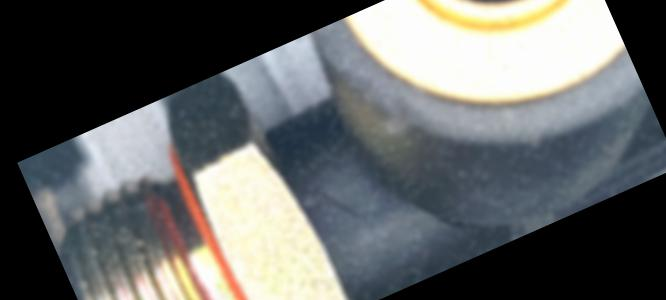craze: (321, 177, 370, 242)
off-centered: (439, 1, 570, 33)
white mark: (297, 190, 320, 213)
